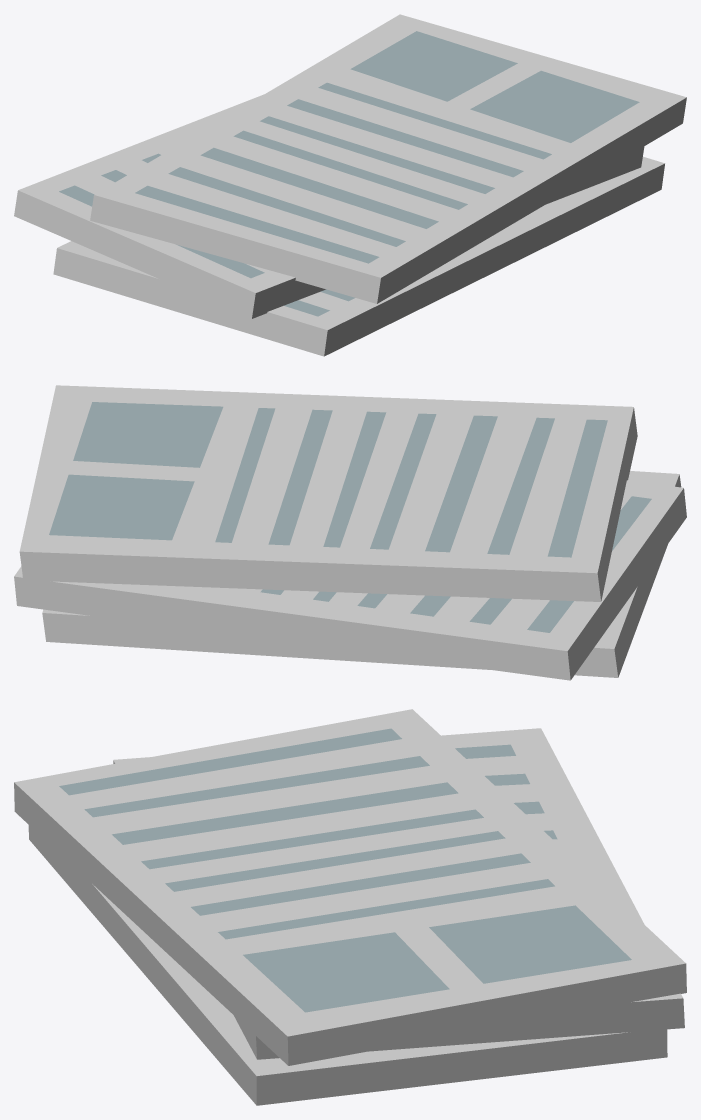
The model's file is paper_stack.glb.
The picture shows the model from 3 angles, top to bottom: view 1: azimuth 30°, elevation 25°; view 2: azimuth 150°, elevation 25°; view 3: azimuth 270°, elevation 25°; orthographic projection. The views are drawn at different scales.
Parts seen in each view (by area): view 1: paper_stack; view 2: paper_stack; view 3: paper_stack.
Boxes of the visible parts, x1,y1,x2,y2 form: paper_stack: [14, 14, 686, 356]; paper_stack: [14, 385, 686, 680]; paper_stack: [14, 709, 686, 1105].
Size of the model in its own units: 0.3 by 0.0441 by 0.2453.
